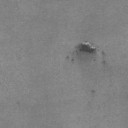iron sheet ash: (72, 43, 96, 62), (102, 60, 106, 64)
